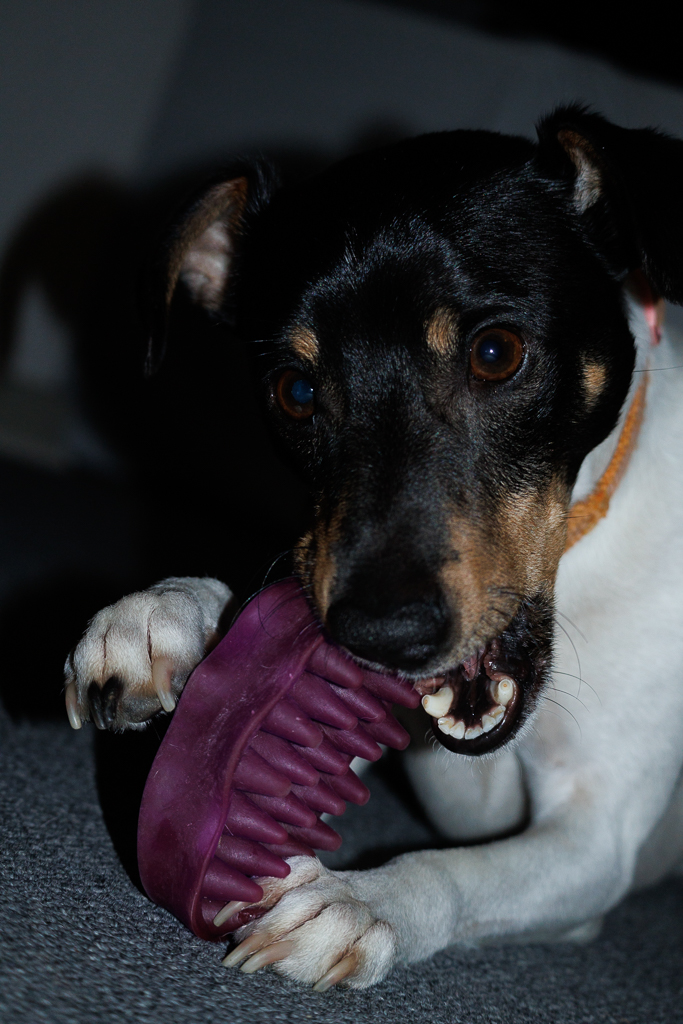Dog: (49, 100, 683, 1003)
